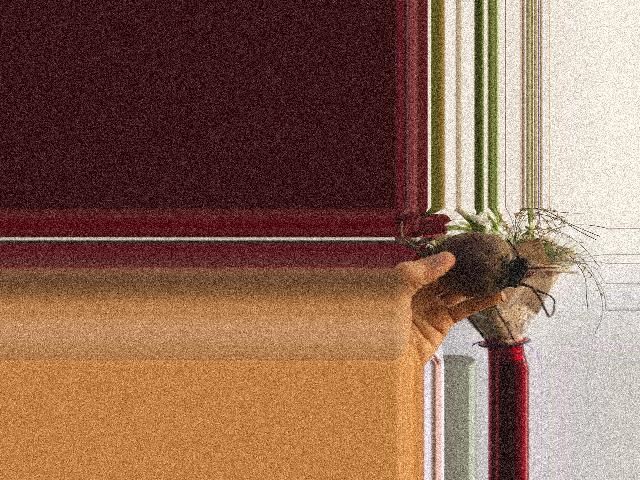beet: (400, 222, 556, 317)
